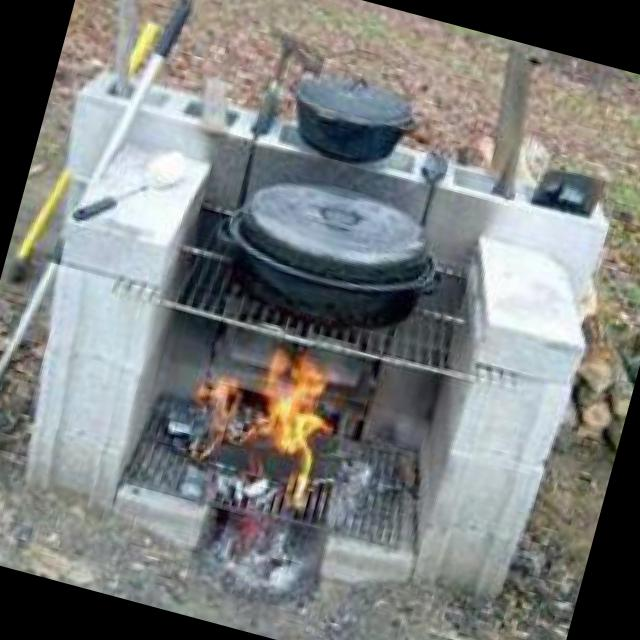fire: (162, 318, 352, 507)
